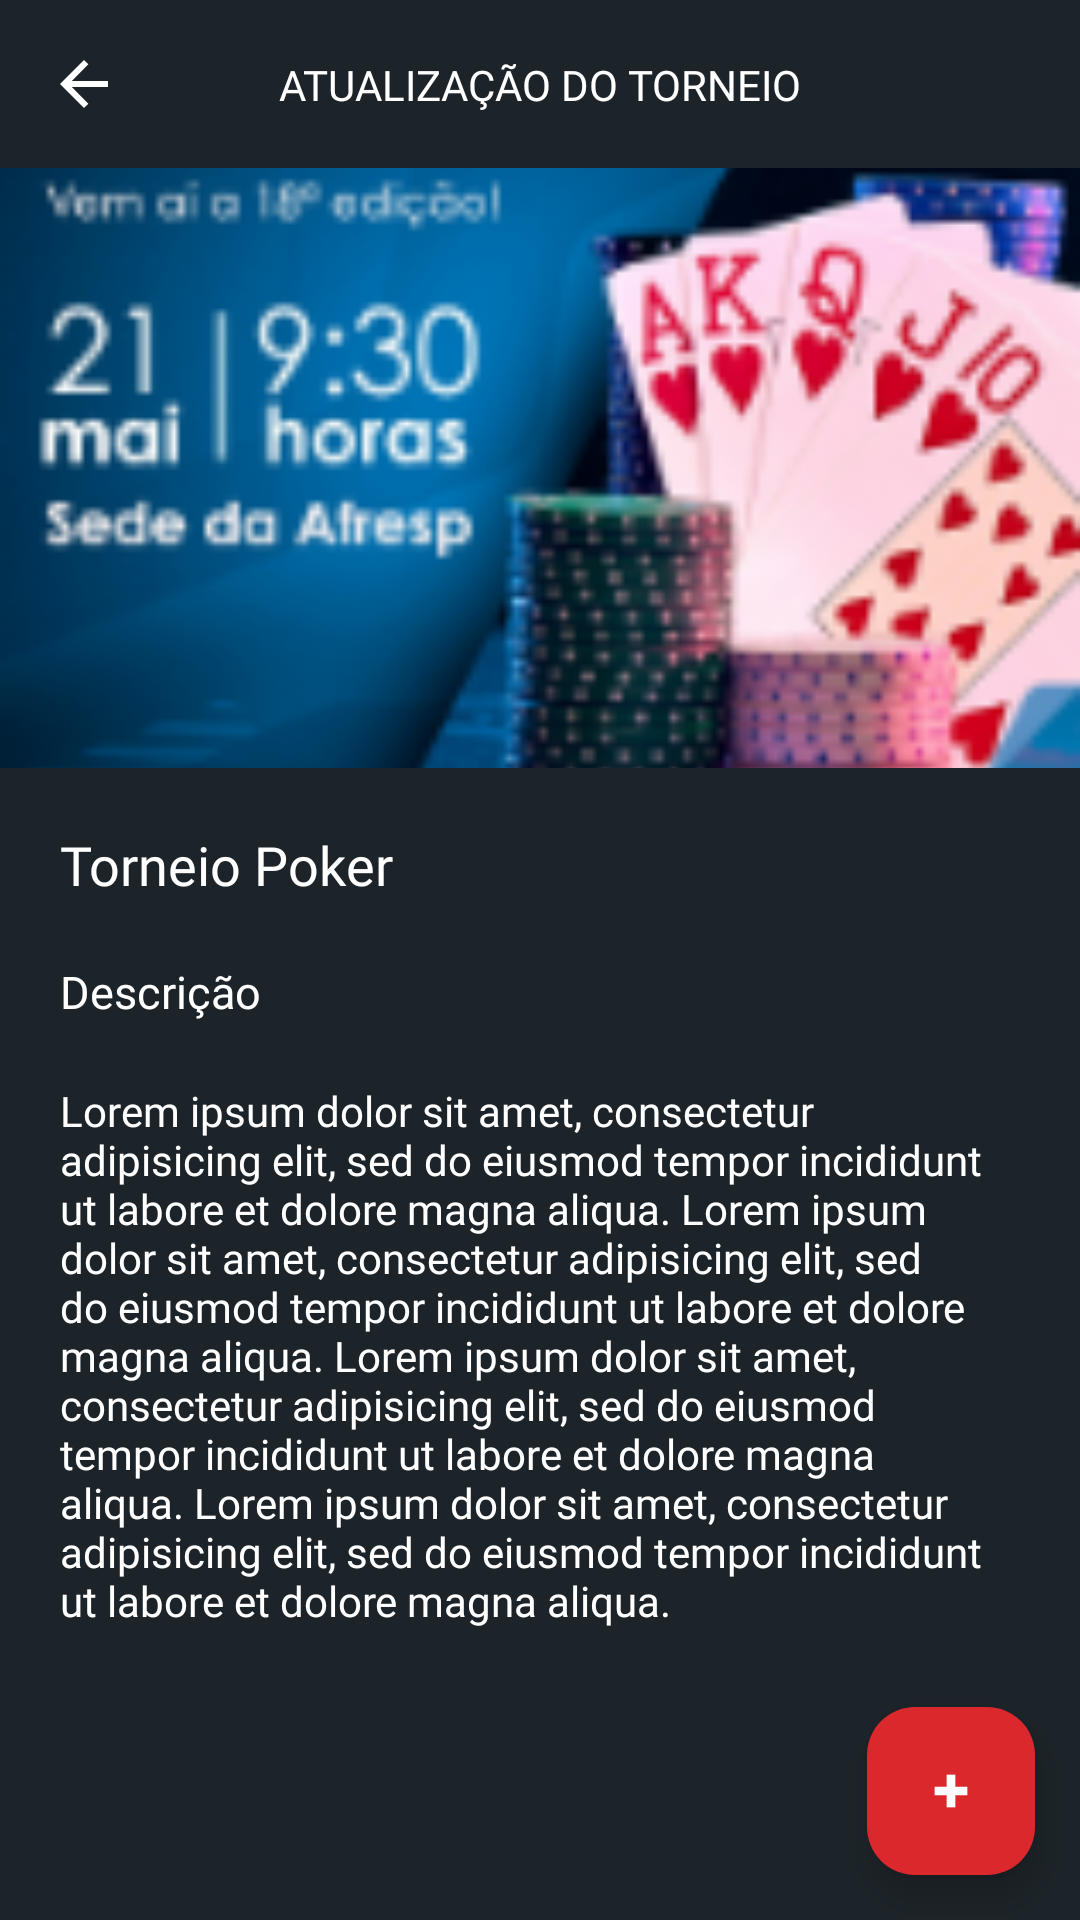

Icons on this 1080w x 1920h Android screen, each with the point to tap as (x,y):
left arrow: (84,84)
plus: (951,1791)
